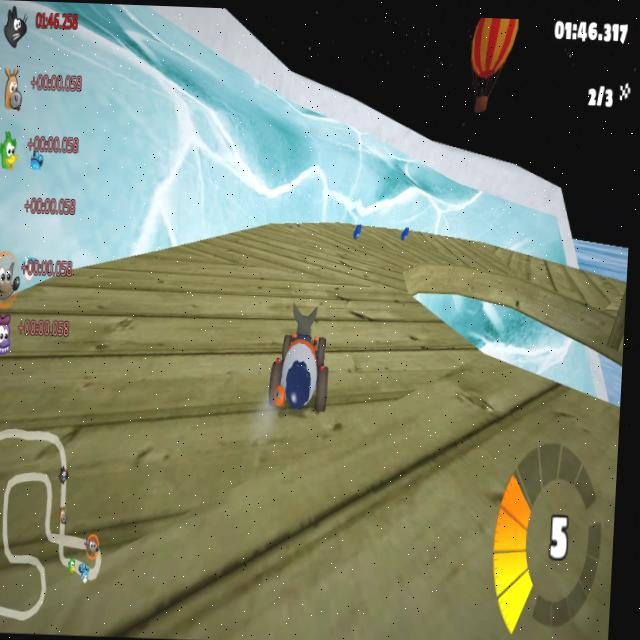nitro: (348, 219, 364, 241), (397, 226, 412, 244)
player_kart: (269, 307, 332, 407)
track: (0, 429, 618, 640), (0, 298, 272, 433), (323, 305, 438, 463), (433, 381, 621, 465), (255, 225, 347, 310), (156, 245, 257, 309), (344, 250, 405, 312), (412, 238, 517, 264), (568, 267, 627, 312), (85, 266, 158, 302), (266, 408, 327, 448), (436, 340, 484, 376), (518, 250, 570, 274), (367, 218, 396, 255), (535, 270, 574, 291), (59, 275, 88, 298), (237, 231, 258, 251)
